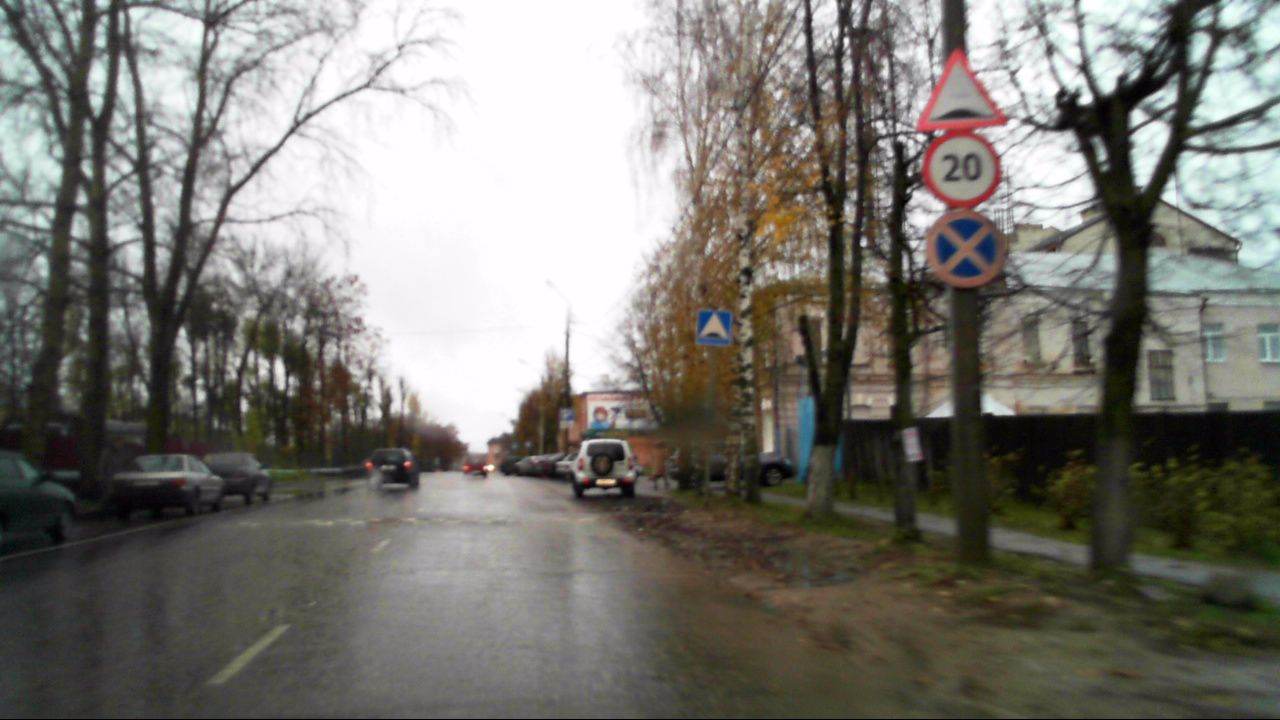No Parking: (925, 208, 1005, 287)
